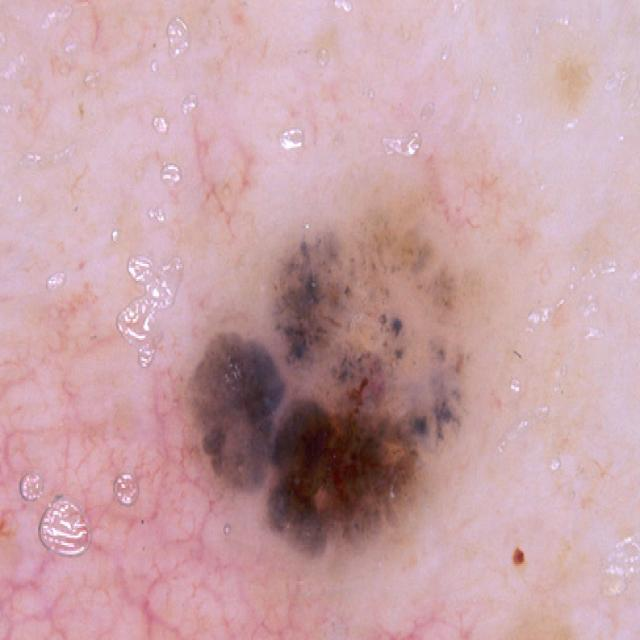Carcinoma: (168, 217, 503, 564)
